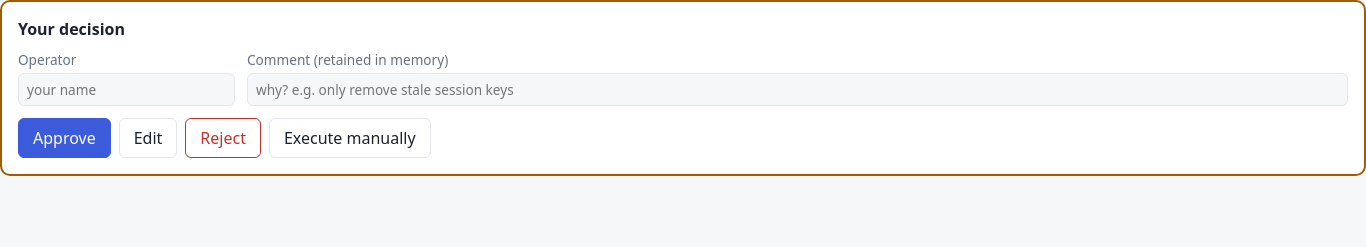
DecisionPanel › shows the backend's refusal
The image size is (1366, 247).
Type "sre" into the field with placeholder "your name" at (126, 90), box [18,73,235,106]
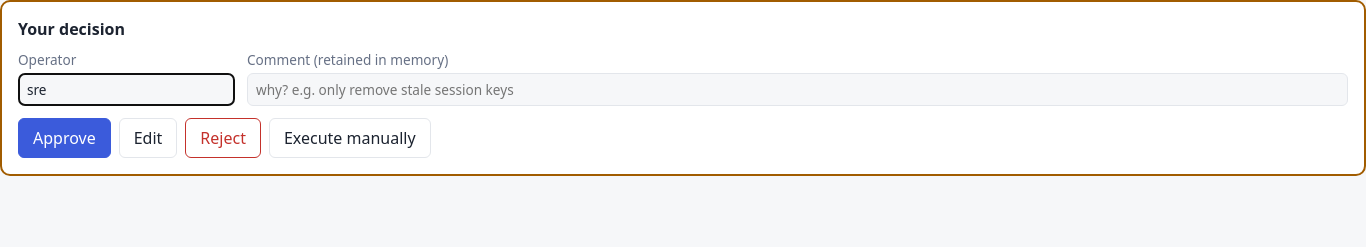
Click the button "Reject" at (223, 138), box [185,118,261,158]
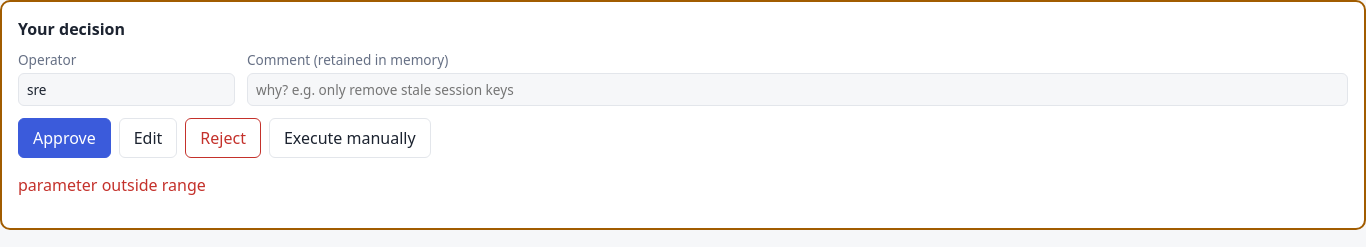
Check: the message reads "parameter outside range", box [18,174,206,196]
